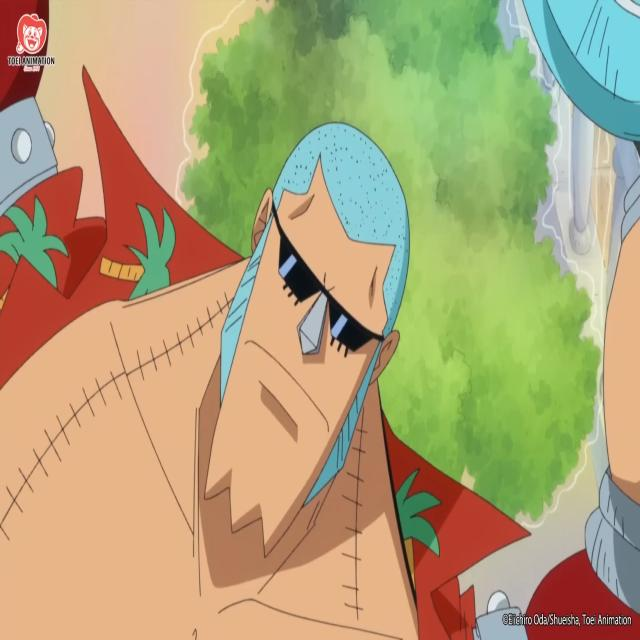Franky: (8, 70, 441, 637)
